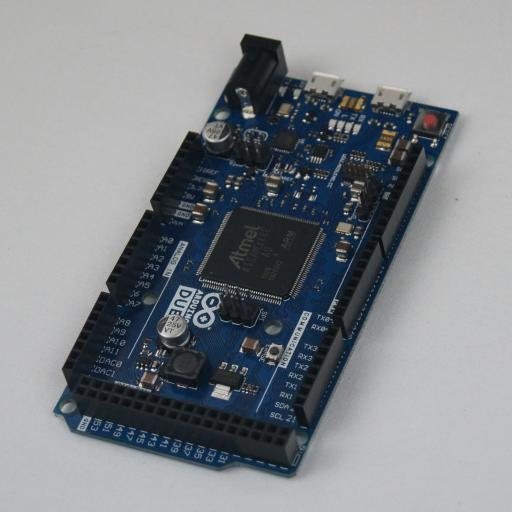Arduino Due: (53, 34, 459, 478)
